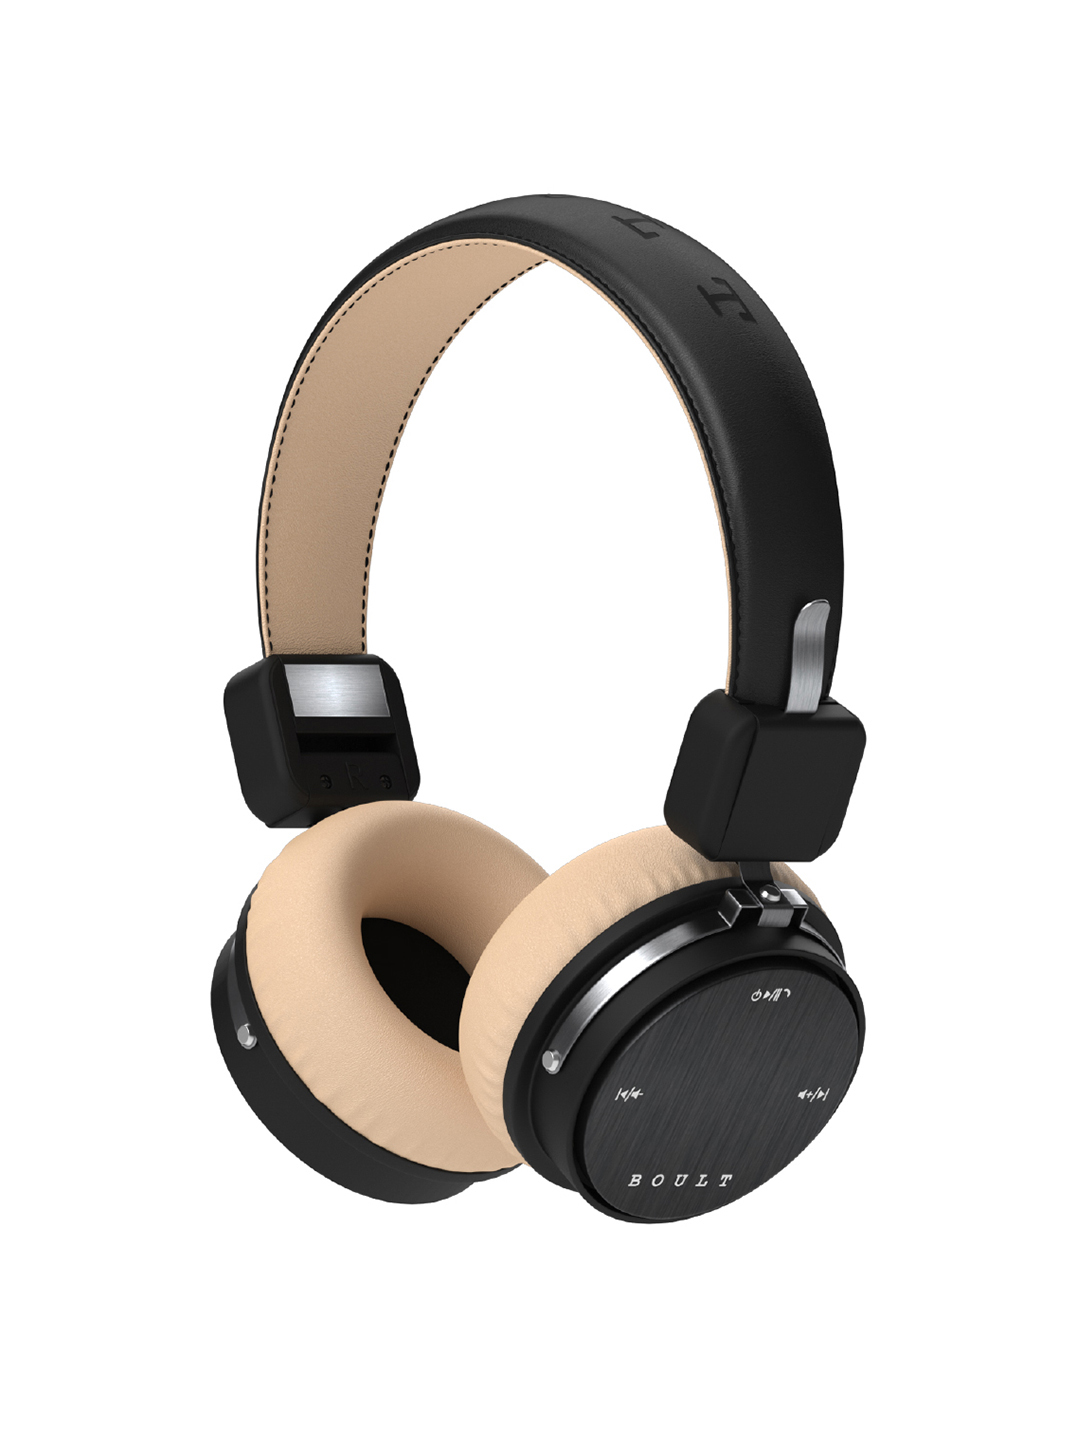Headphone: (166, 184, 887, 1269)
